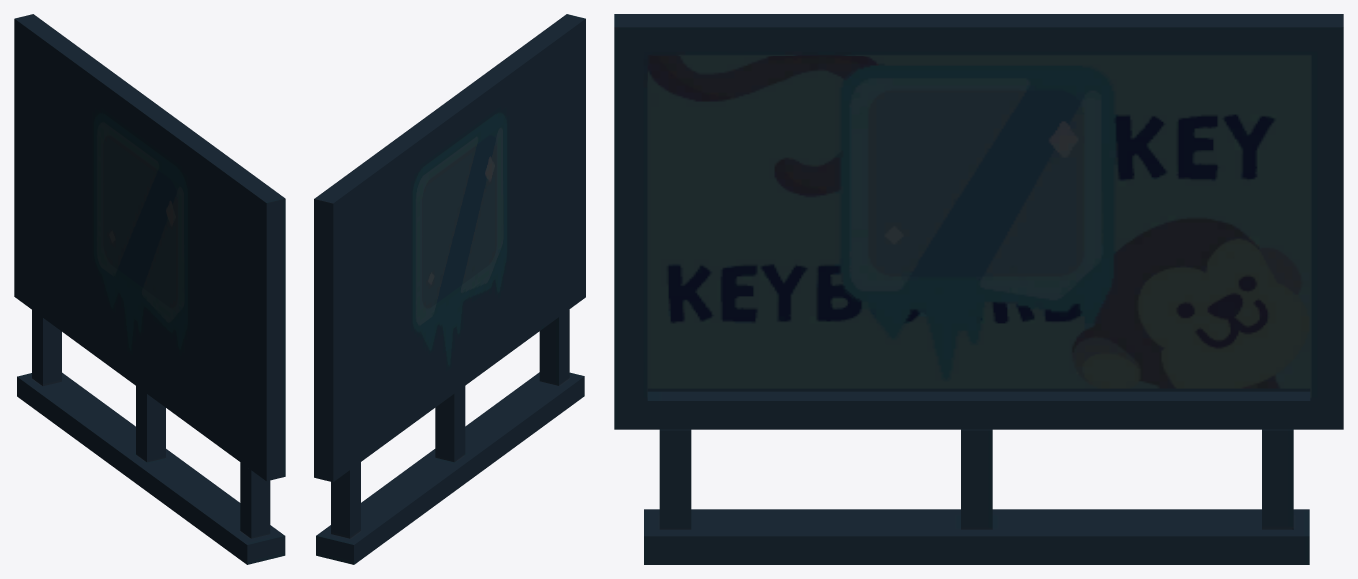
Rendered from BillboardFreeze_Unhovered.fbx.
3 views of the same model, side by side, from view 1: azimuth 30°, elevation 25°; view 2: azimuth 150°, elevation 25°; view 3: azimuth 270°, elevation 25° (orthographic). The views are drawn at different scales.
Parts seen in each view (by area): view 1: Billboard; view 2: Billboard; view 3: Billboard.
Part boxes in pixels (x1,y1,x2,y2): Billboard: (14,14,285,564); Billboard: (314,14,585,564); Billboard: (614,14,1343,564).
Bounding box in the file's own units: 20 × 185 × 230.
